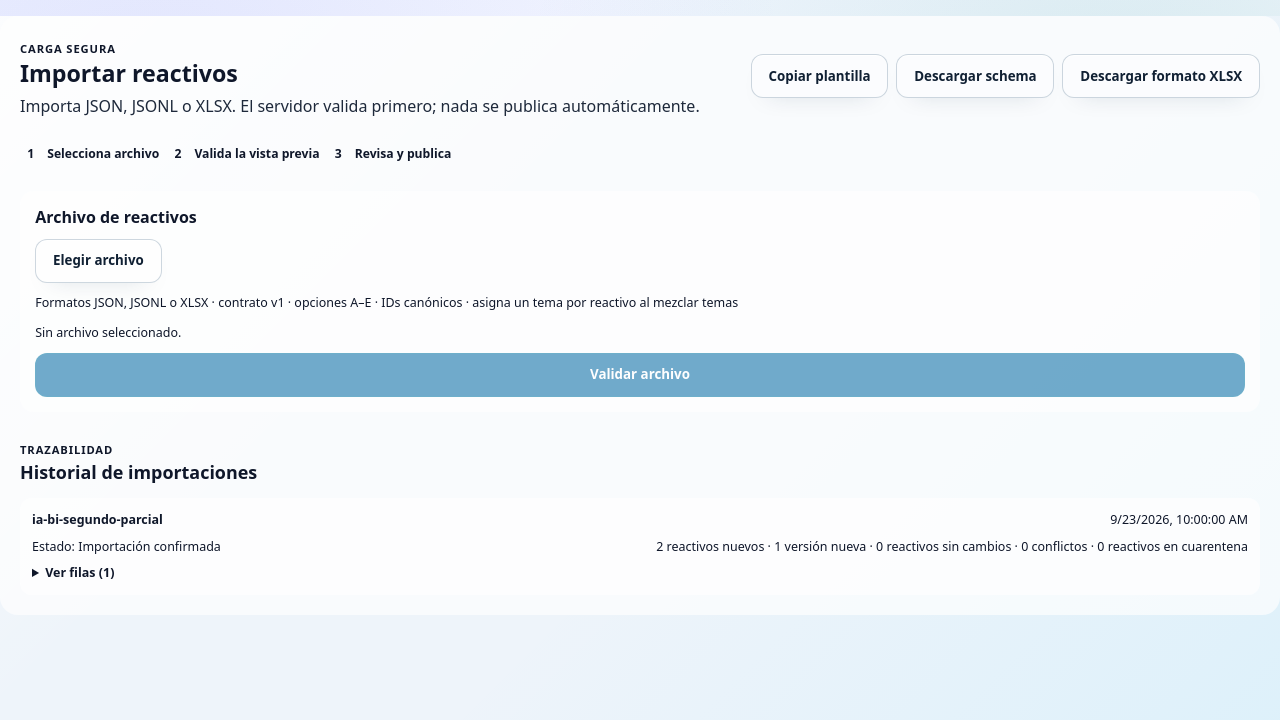
Scenario: BancoImportacionReactivos › muestra historial durable filtrado por materia y detalle por fila
The image size is (1280, 720).
Expected: the text "ia-bi-segundo-parcial" is shown, [32, 510, 163, 530]
Expected: the text "Estado: Importación confirmada" is shown, [32, 537, 221, 556]
Click the heading "Ver filas (1)" at (80, 573), box [45, 564, 114, 581]
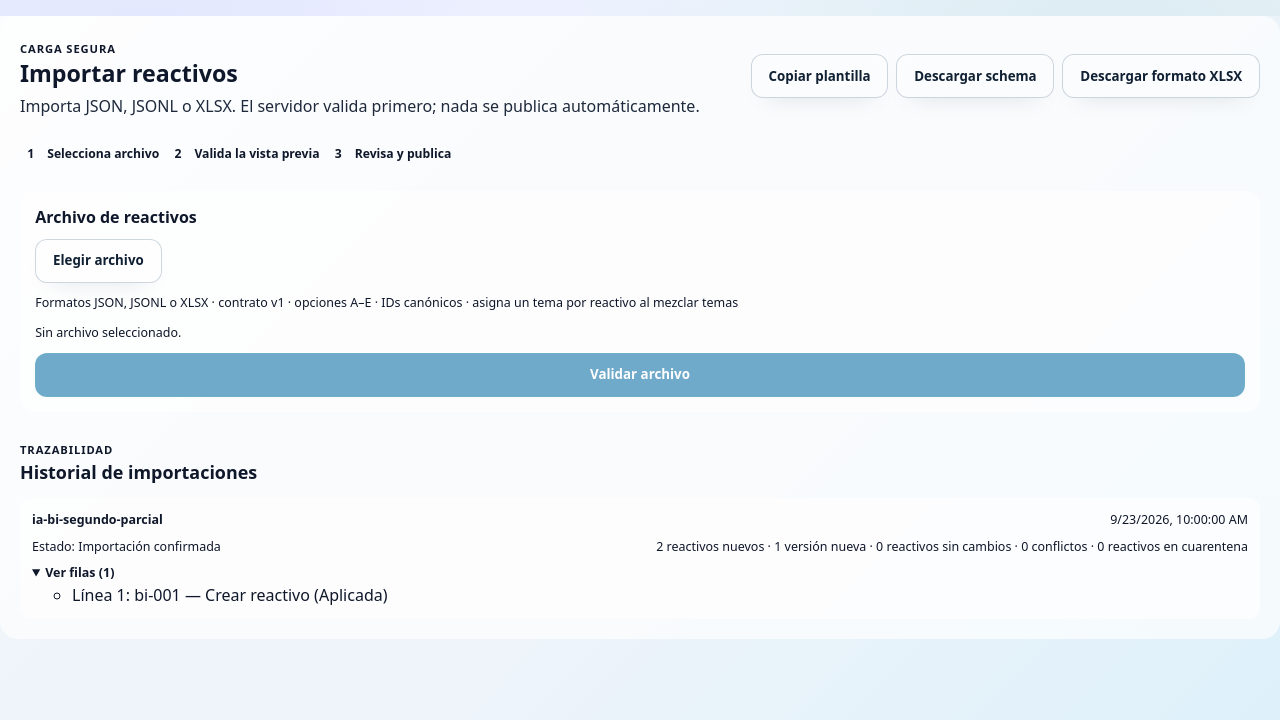
Result: the list item "Línea 1: bi-001 — Crear reactivo (Aplicada)" is shown at [72, 584, 388, 606]
